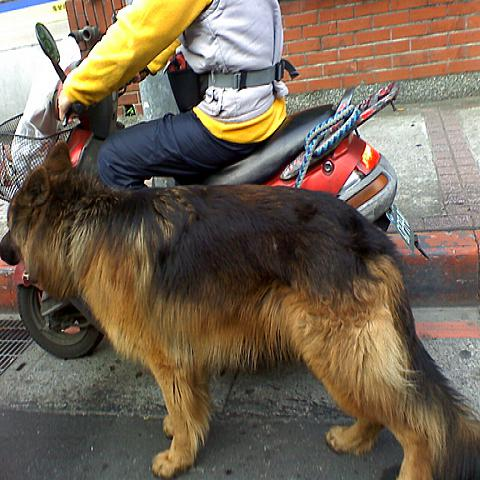motorcycle: (11, 23, 415, 358)
